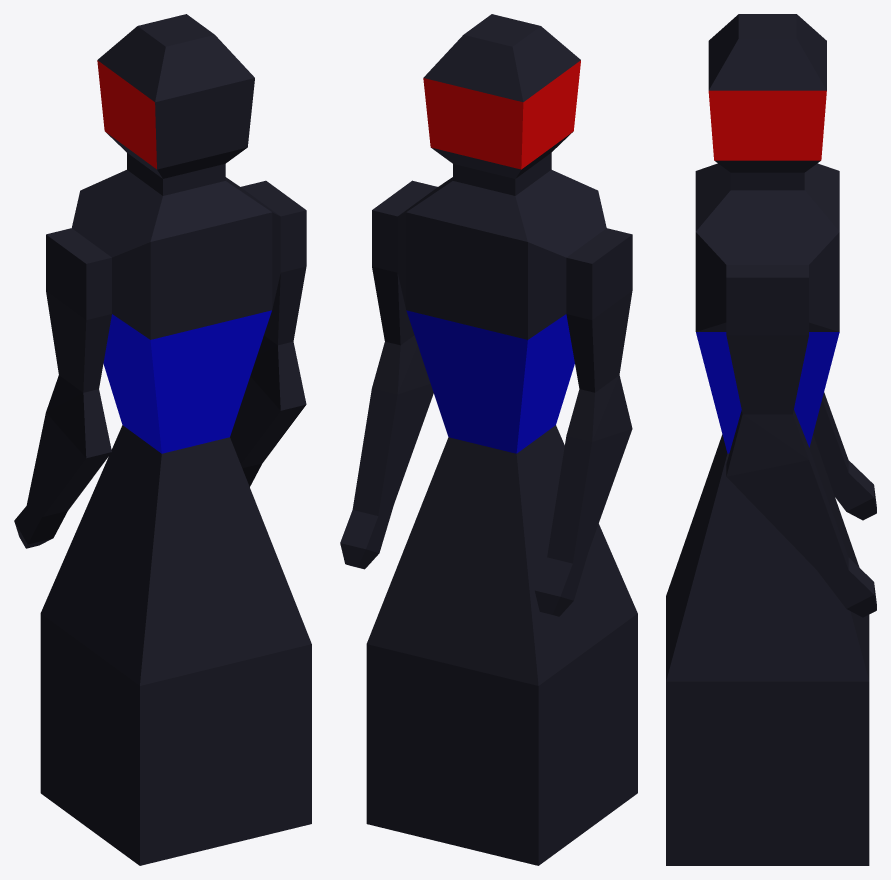
File: robot2.obj
3 views of the same model, side by side, from view 1: azimuth 30°, elevation 25°; view 2: azimuth 150°, elevation 25°; view 3: azimuth 270°, elevation 25° (orthographic). The views are drawn at different scales.
Visible parts, largest first — view 1: Robot; view 2: Robot; view 3: Robot.
Boxes of the visible parts, box(x1,y1,x2,y2) form: Robot: box(14, 14, 311, 865); Robot: box(340, 14, 637, 865); Robot: box(666, 14, 876, 865).
Bounding box in the file's own units: 0.2562 × 0.8649 × 0.2074.
